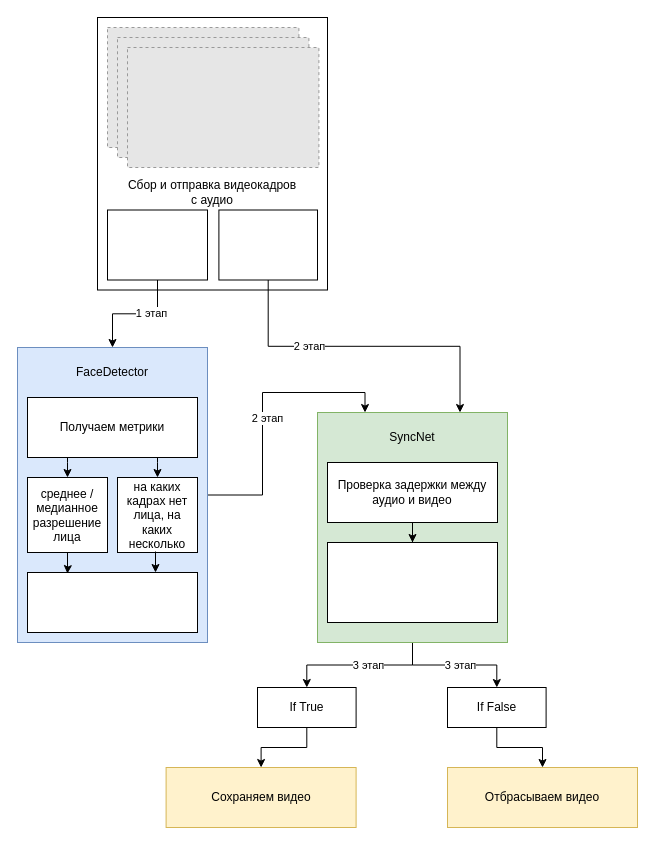
This 655x845 diagram has some shape labels left out. Grey dashed boxes stand in for pictures. Here are the shapes that lost their labels. From the top down, the centre of each, then its label:
At [157,244]: "Видео (batch, height, width, 3)".
At [268,244]: "Аудио".
At [112,602]: "фильтруем по разрешению, выбрасываем без лиц и с несколькими лицами".
At [412,582]: "Отбрасываем вне диапазона +-5 кадров".
